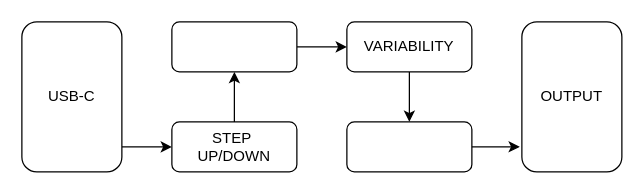
Some shapes in this 644 by 194 pixel diagram are drawn without their labels. Each missing label, with the centre of its shape:
"PROTECTION" goes at [409,146].
"REGULATION" goes at [234,46].
